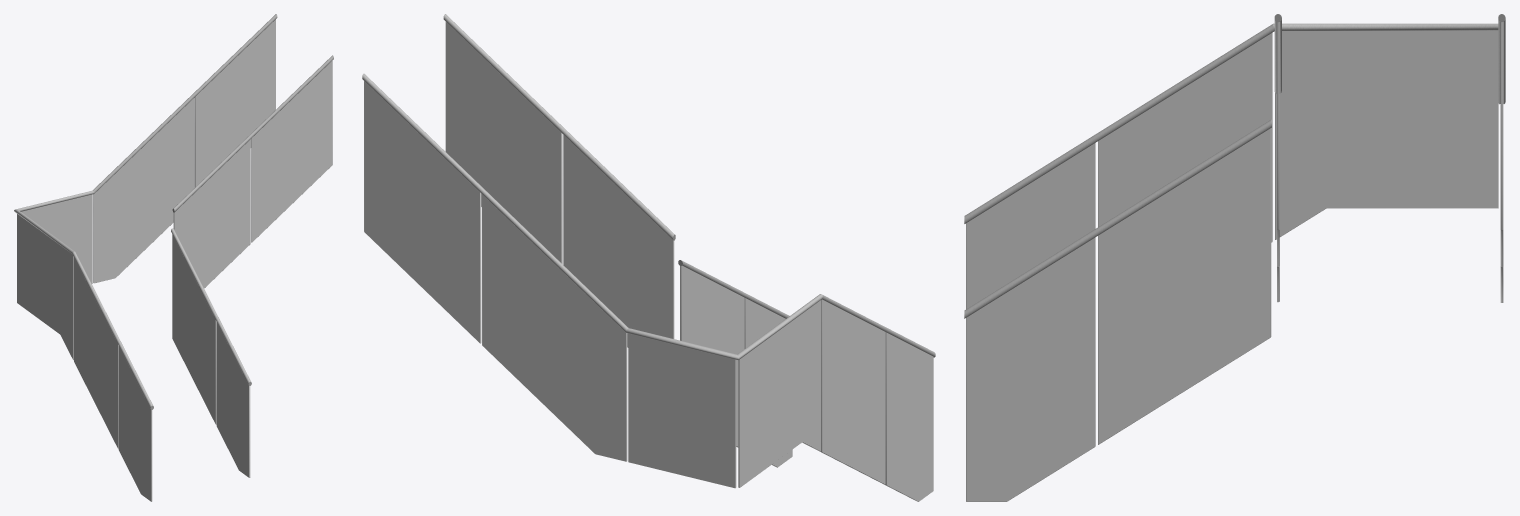
File: L-Shaped_Railing_Optik-Boss_Wood-Cap.gltf
The picture shows the model from 3 angles, left to right: view 1: azimuth 30°, elevation 25°; view 2: azimuth 150°, elevation 25°; view 3: azimuth 270°, elevation 25°; orthographic projection. The views are drawn at different scales.
Visible parts, largest first — view 1: Casework 2 Casework 1 [8743341]001, Casework 5 Casework 1 [8445778]001, Casework 4 Casework 1 [8744916]002, Casework 6 Casework 1 [8445804]002, Generic Models 11 Generic Models 11 [8762451]003, Generic Models 11 Generic Models 11 [8762451]004, Object002, Generic Models 7 Generic Models 1 [8445814]002; view 2: Casework 2 Casework 1 [8743341]001, Casework 5 Casework 1 [8445778]001, Casework 4 Casework 1 [8744916]002, Casework 6 Casework 1 [8445804]002, Generic Models 11 Generic Models 11 [8762451]003, Generic Models 11 Generic Models 11 [8762451]004, Object002; view 3: Casework 4 Casework 1 [8744916]002, Casework 6 Casework 1 [8445804]002, Object002, Generic Models 7 Generic Models 1 [8445814]002, Generic Models 11 Generic Models 11 [8762451]003, Casework 2 Casework 1 [8743341]001, Casework 5 Casework 1 [8445778]001.
Part boxes in pixels (x1,y1,x2,y2): Casework 2 Casework 1 [8743341]001: (21,19,275,283); Casework 5 Casework 1 [8445778]001: (173,60,332,288); Casework 4 Casework 1 [8744916]002: (17,214,152,501); Casework 6 Casework 1 [8445804]002: (172,234,250,477); Generic Models 11 Generic Models 11 [8762451]003: (14,14,277,251); Generic Models 11 Generic Models 11 [8762451]004: (172,55,333,212); Object002: (70,249,153,409); Generic Models 7 Generic Models 1 [8445814]002: (171,228,251,385); Casework 2 Casework 1 [8743341]001: (364,81,736,488); Casework 5 Casework 1 [8445778]001: (445,22,674,347); Casework 4 Casework 1 [8744916]002: (738,299,933,501); Casework 6 Casework 1 [8445804]002: (680,265,792,467); Generic Models 11 Generic Models 11 [8762451]003: (362,73,819,360); Generic Models 11 Generic Models 11 [8762451]004: (443,14,675,240); Object002: (816,294,935,357); Casework 4 Casework 1 [8744916]002: (966,31,1498,309); Casework 6 Casework 1 [8445804]002: (966,128,1271,501); Object002: (964,23,1283,223); Generic Models 7 Generic Models 1 [8445814]002: (964,119,1271,318); Generic Models 11 Generic Models 11 [8762451]003: (1284,14,1505,104); Casework 2 Casework 1 [8743341]001: (1500,22,1503,302); Casework 5 Casework 1 [8445778]001: (1277,22,1279,302).
Size of the model in its own units: 3.1 by 3.69 by 2.81.
